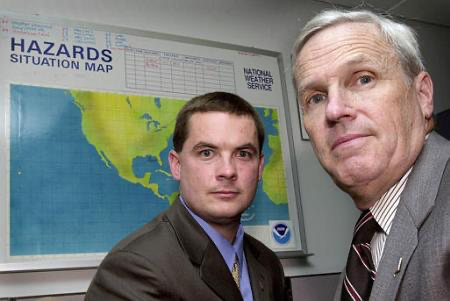Face: (295, 57, 419, 192), (179, 125, 263, 220)
